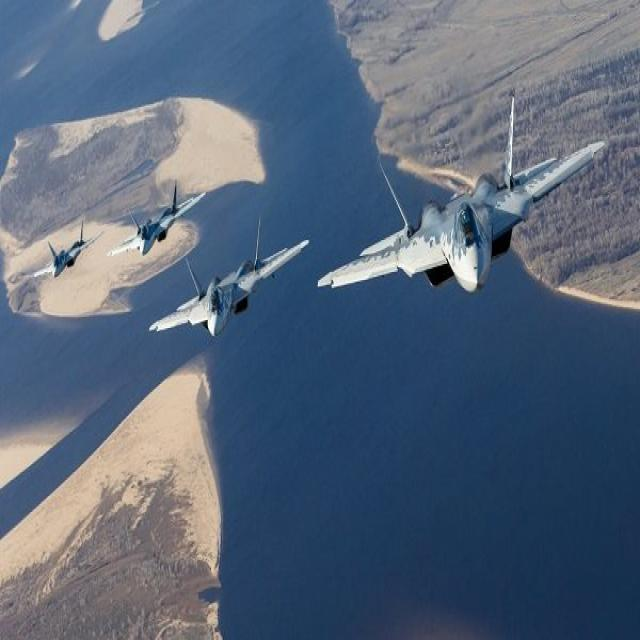MIL_Plane: (316, 96, 606, 294), (148, 216, 310, 338), (106, 182, 207, 255), (32, 219, 106, 280)
